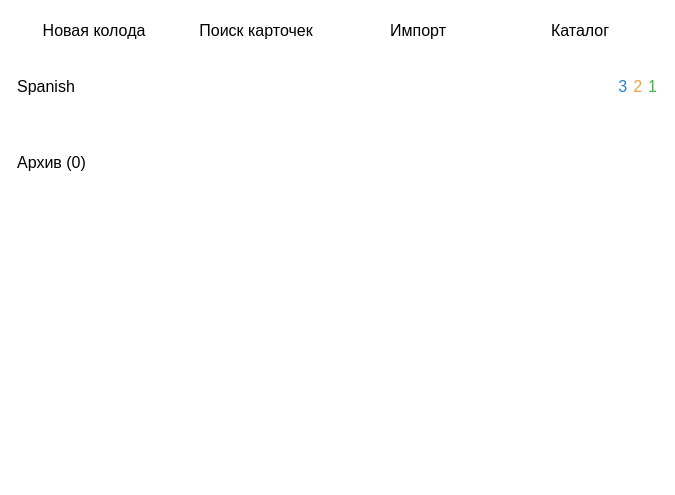
deck management › creates a deck and shows a duplicate-name error beside the field
Click the button "Новая колода". click: [94, 31]
box: [17, 12, 171, 50]
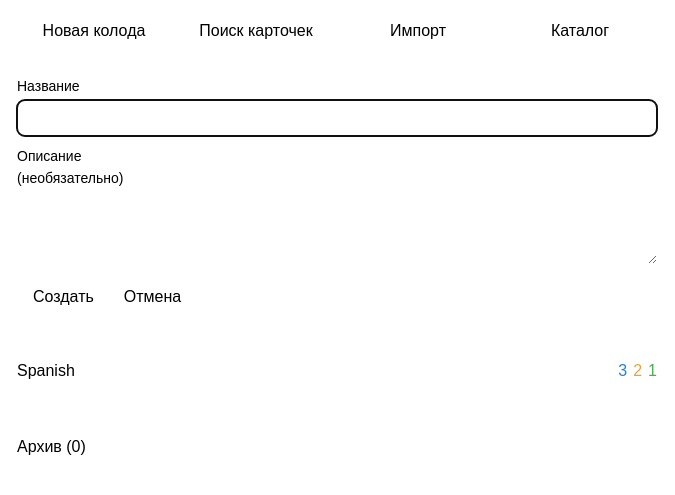
Type "French" into the field labelled "Название". click: [337, 118]
box: [17, 100, 657, 136]
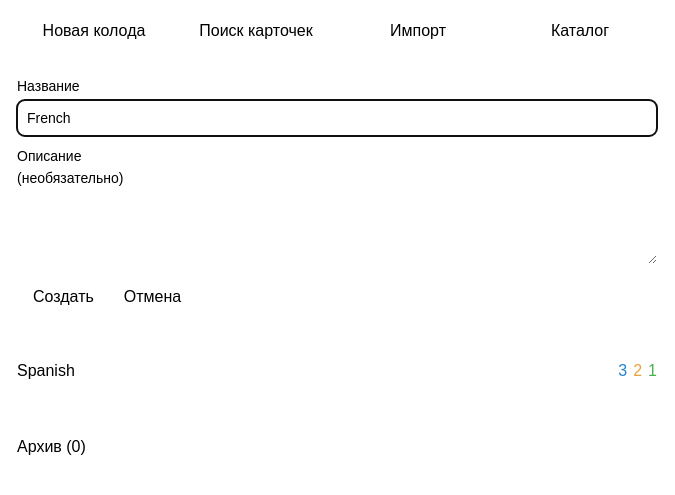
Click the button "Создать". click: [63, 297]
box: [17, 276, 110, 318]
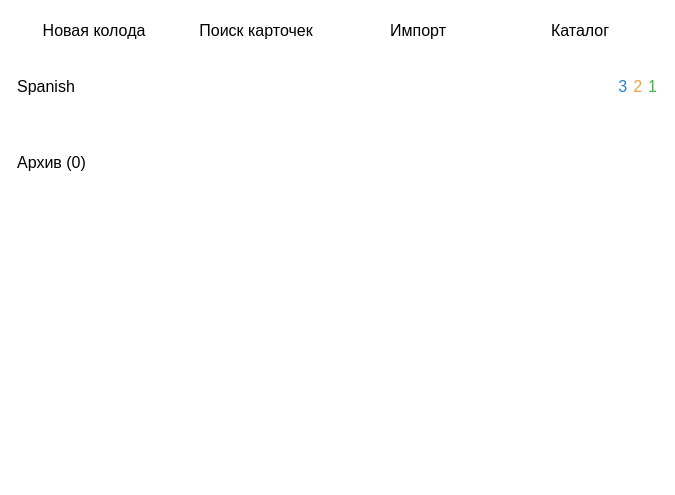
Click the button "Новая колода". click: [94, 31]
box: [17, 12, 171, 50]
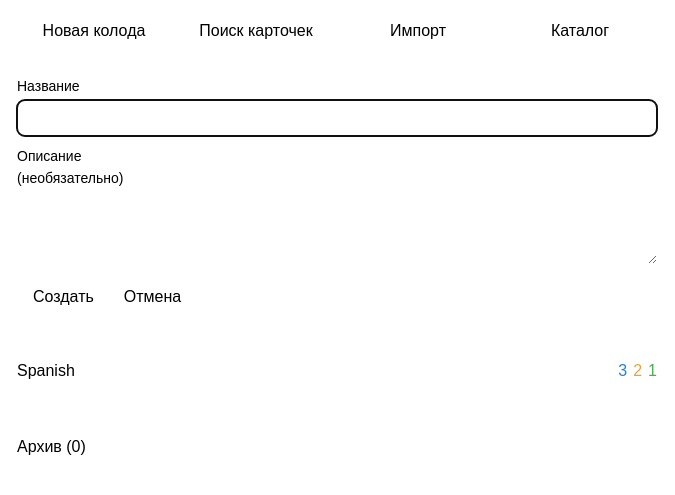
Type "French" into the field labelled "Название". click: [337, 118]
box: [17, 100, 657, 136]
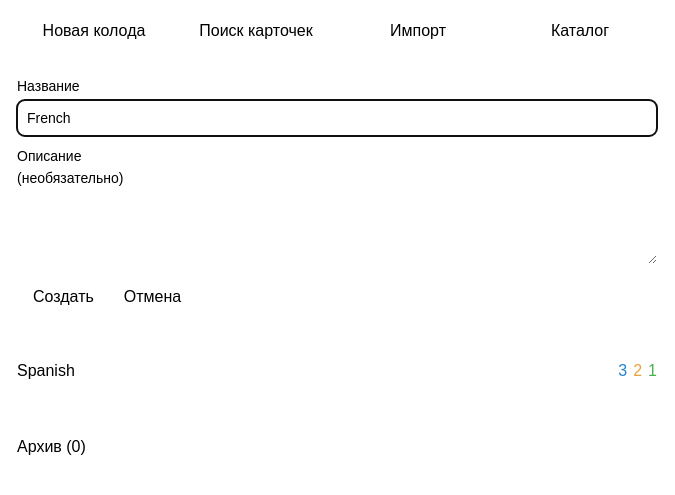
Click the button "Создать". click: [63, 297]
box: [17, 276, 110, 318]
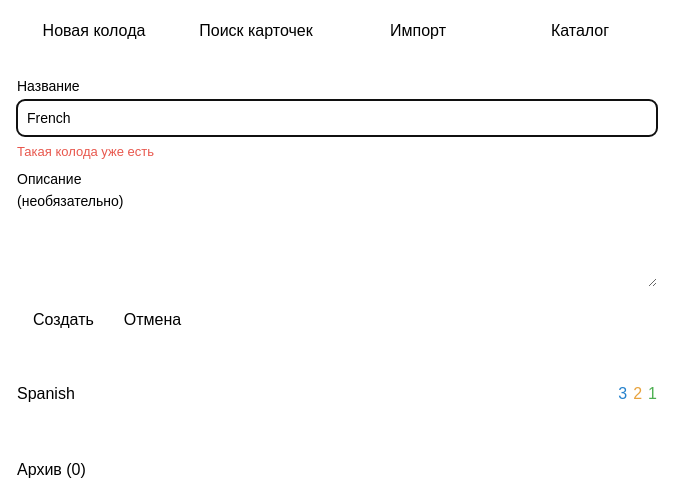
Check: the text "Такая колода уже есть" is shown, box [17, 144, 154, 159]
